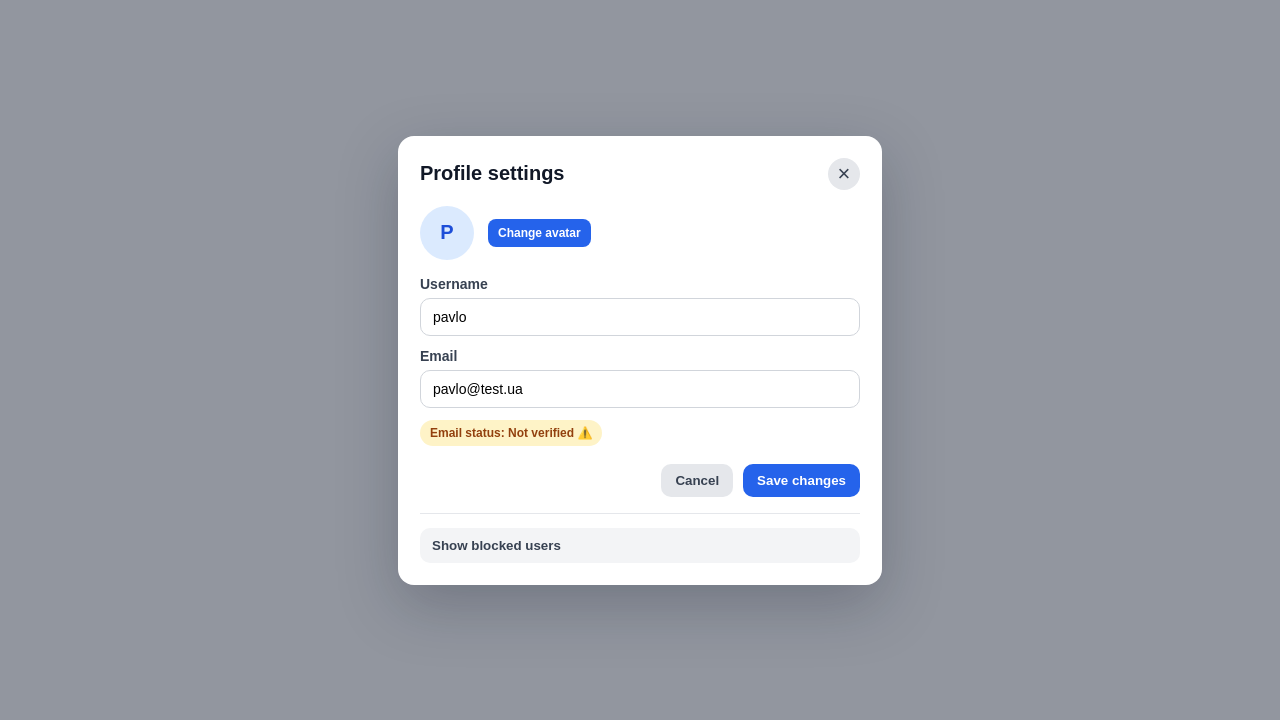
Test: ProfileSettingsModal › hides blocked users panel when toggle is clicked twice
The width and height of the screenshot is (1280, 720).
Click the button "Show blocked users" at (496, 545), box [420,528,860,562]
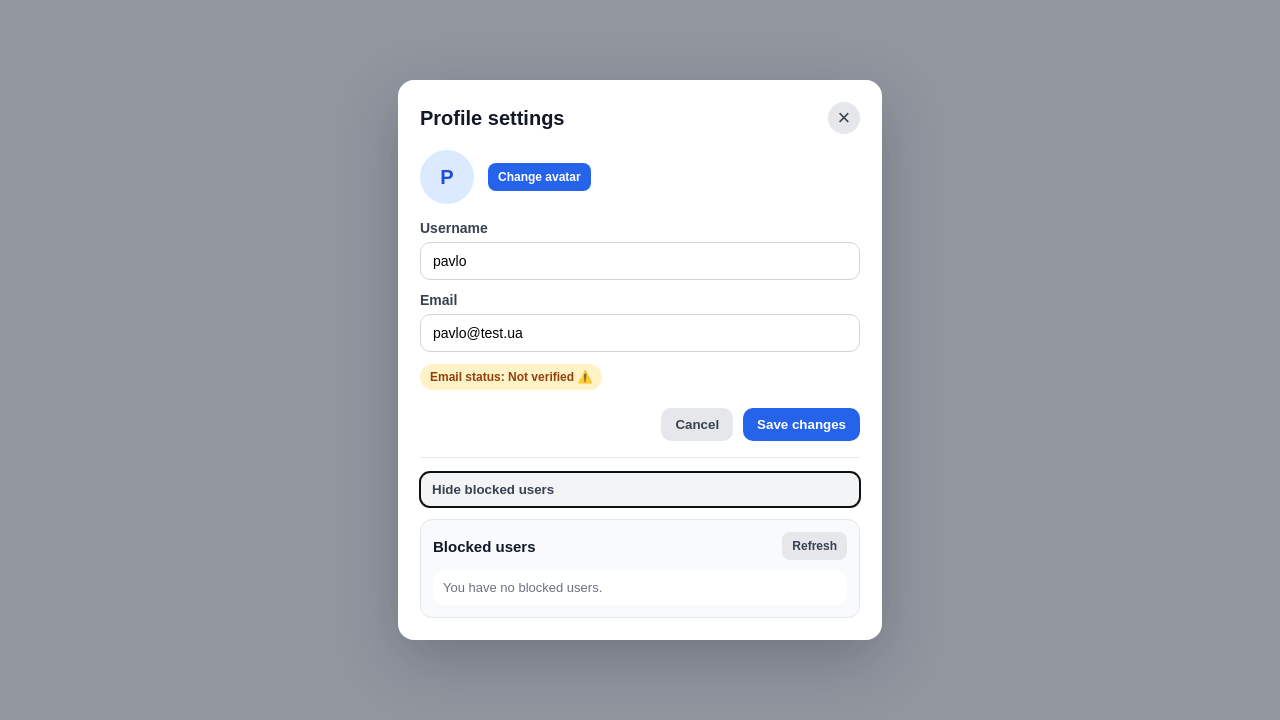
Click the button "Hide blocked users" at (493, 490), box [420,472,860,507]
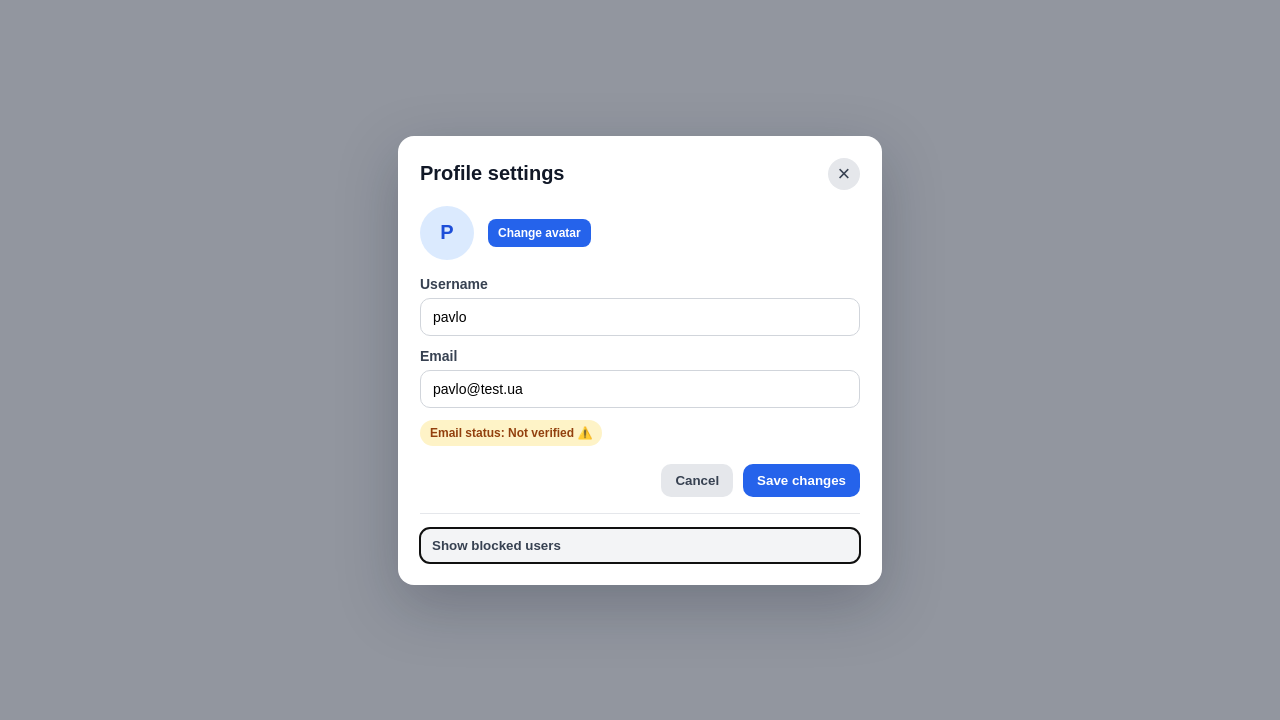
Check: the button "Show blocked users" is shown, box [420,528,860,562]
